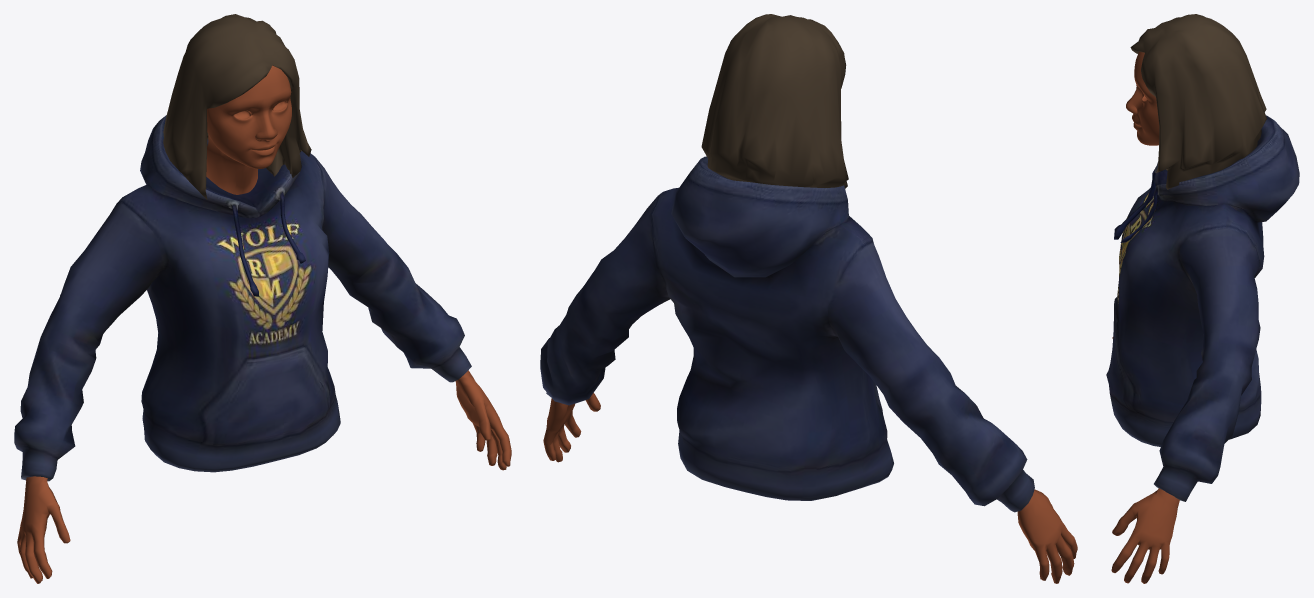
3 renders of one model, left to right at view 1: azimuth 30°, elevation 25°; view 2: azimuth 150°, elevation 25°; view 3: azimuth 270°, elevation 25°, orthographic. The views are drawn at different scales.
Parts seen in each view (by area): view 1: Wolf3D_Outfit_Top.001, Wolf3D_Hair, Wolf3D_Head, Wolf3D_Body.001; view 2: Wolf3D_Outfit_Top.001, Wolf3D_Hair, Wolf3D_Body.001; view 3: Wolf3D_Outfit_Top.001, Wolf3D_Hair, Wolf3D_Body.001, Wolf3D_Head.
Boxes of the visible parts, <box> form: Wolf3D_Outfit_Top.001: <box>14,115,471,481</box>; Wolf3D_Hair: <box>163,14,311,199</box>; Wolf3D_Head: <box>206,65,291,194</box>; Wolf3D_Body.001: <box>17,370,511,583</box>; Wolf3D_Outfit_Top.001: <box>540,156,1034,512</box>; Wolf3D_Hair: <box>701,14,848,188</box>; Wolf3D_Body.001: <box>543,393,1077,583</box>; Wolf3D_Outfit_Top.001: <box>1106,115,1299,501</box>; Wolf3D_Hair: <box>1130,14,1266,189</box>; Wolf3D_Body.001: <box>1111,337,1179,583</box>; Wolf3D_Head: <box>1126,51,1159,145</box>.
Size of the model in its own units: 9.48 by 9.13 by 3.5.
Materials: 3 (2 with a texture image).
